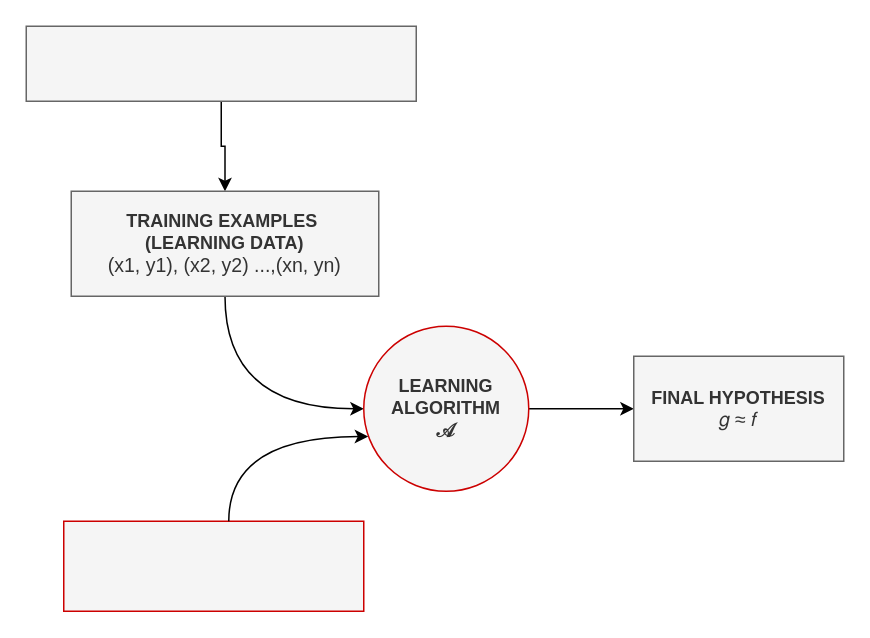
This 870x638 diagram has some shape labels left out. Each missing label, with the centre of its shape:
"HYPOTHESIS SET 𝓗" goes at (213,565).
"UNKNOWN TARGET FUNCTION 𝑓 : X -> Y" goes at (220,63).
